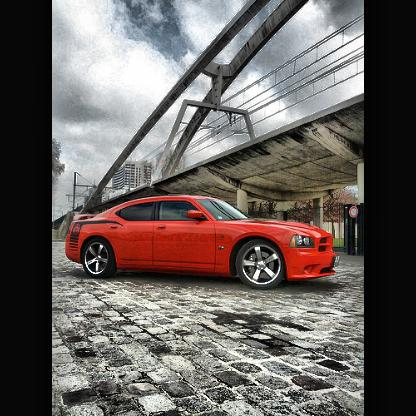Dodge Charger SRT-8 2009: (70, 197, 337, 288)
